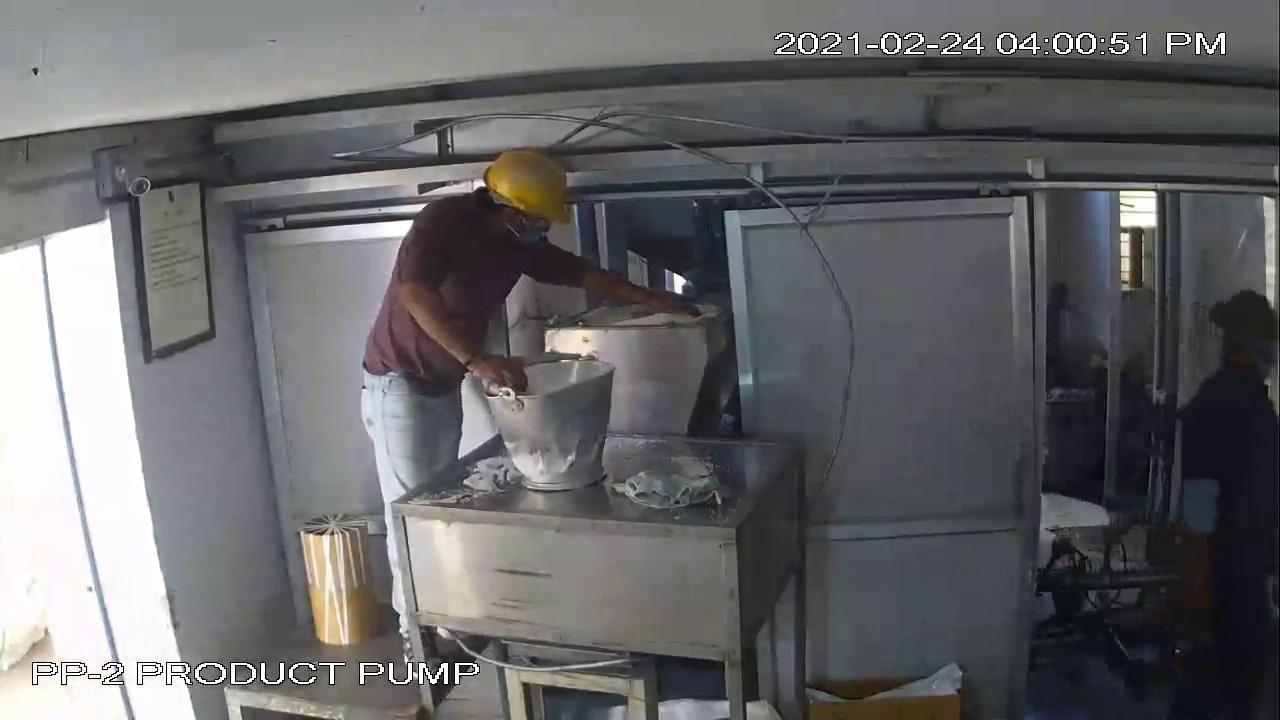helmet: (472, 143, 582, 228)
